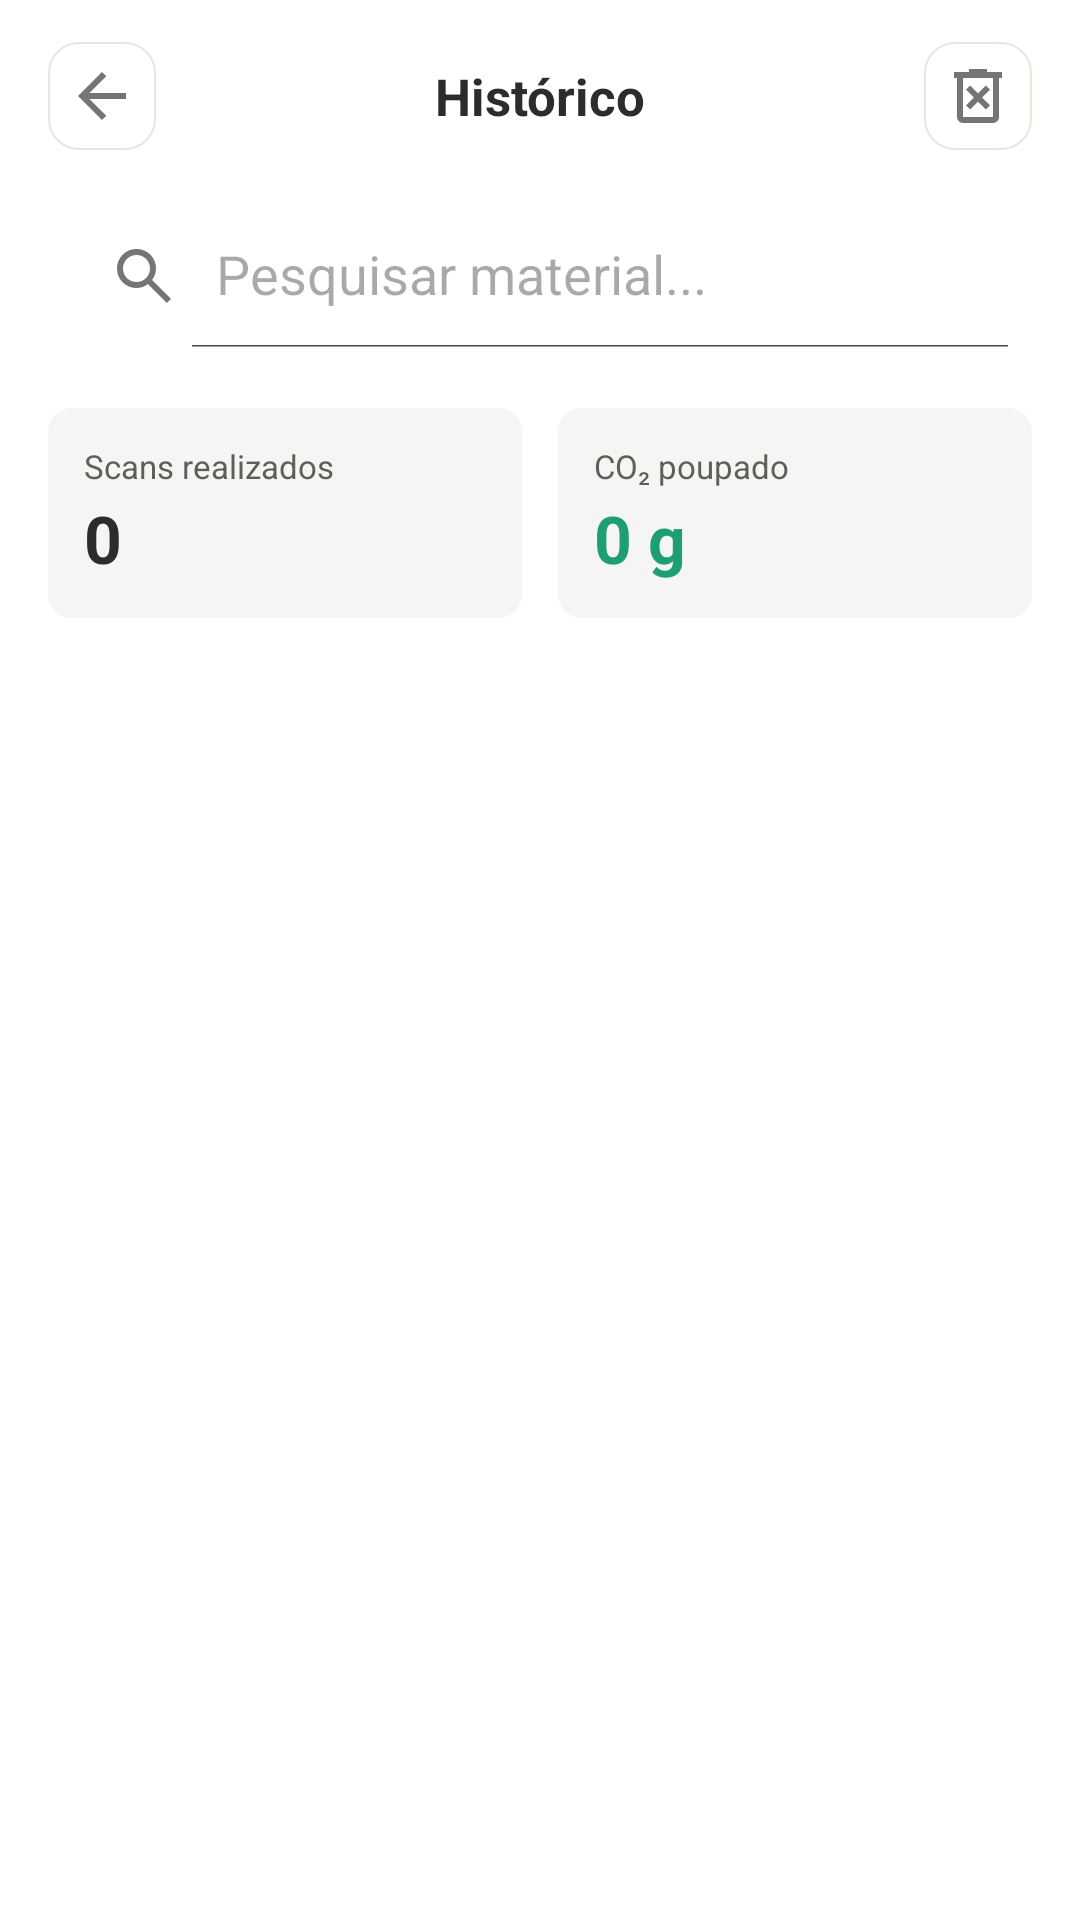

Screen size 1080px×1920px. Icon name, then its box in pixels as (x1, y1, x2, y2):
Apagar todos: (924, 42, 1032, 150)
Voltar: (48, 42, 156, 150)
